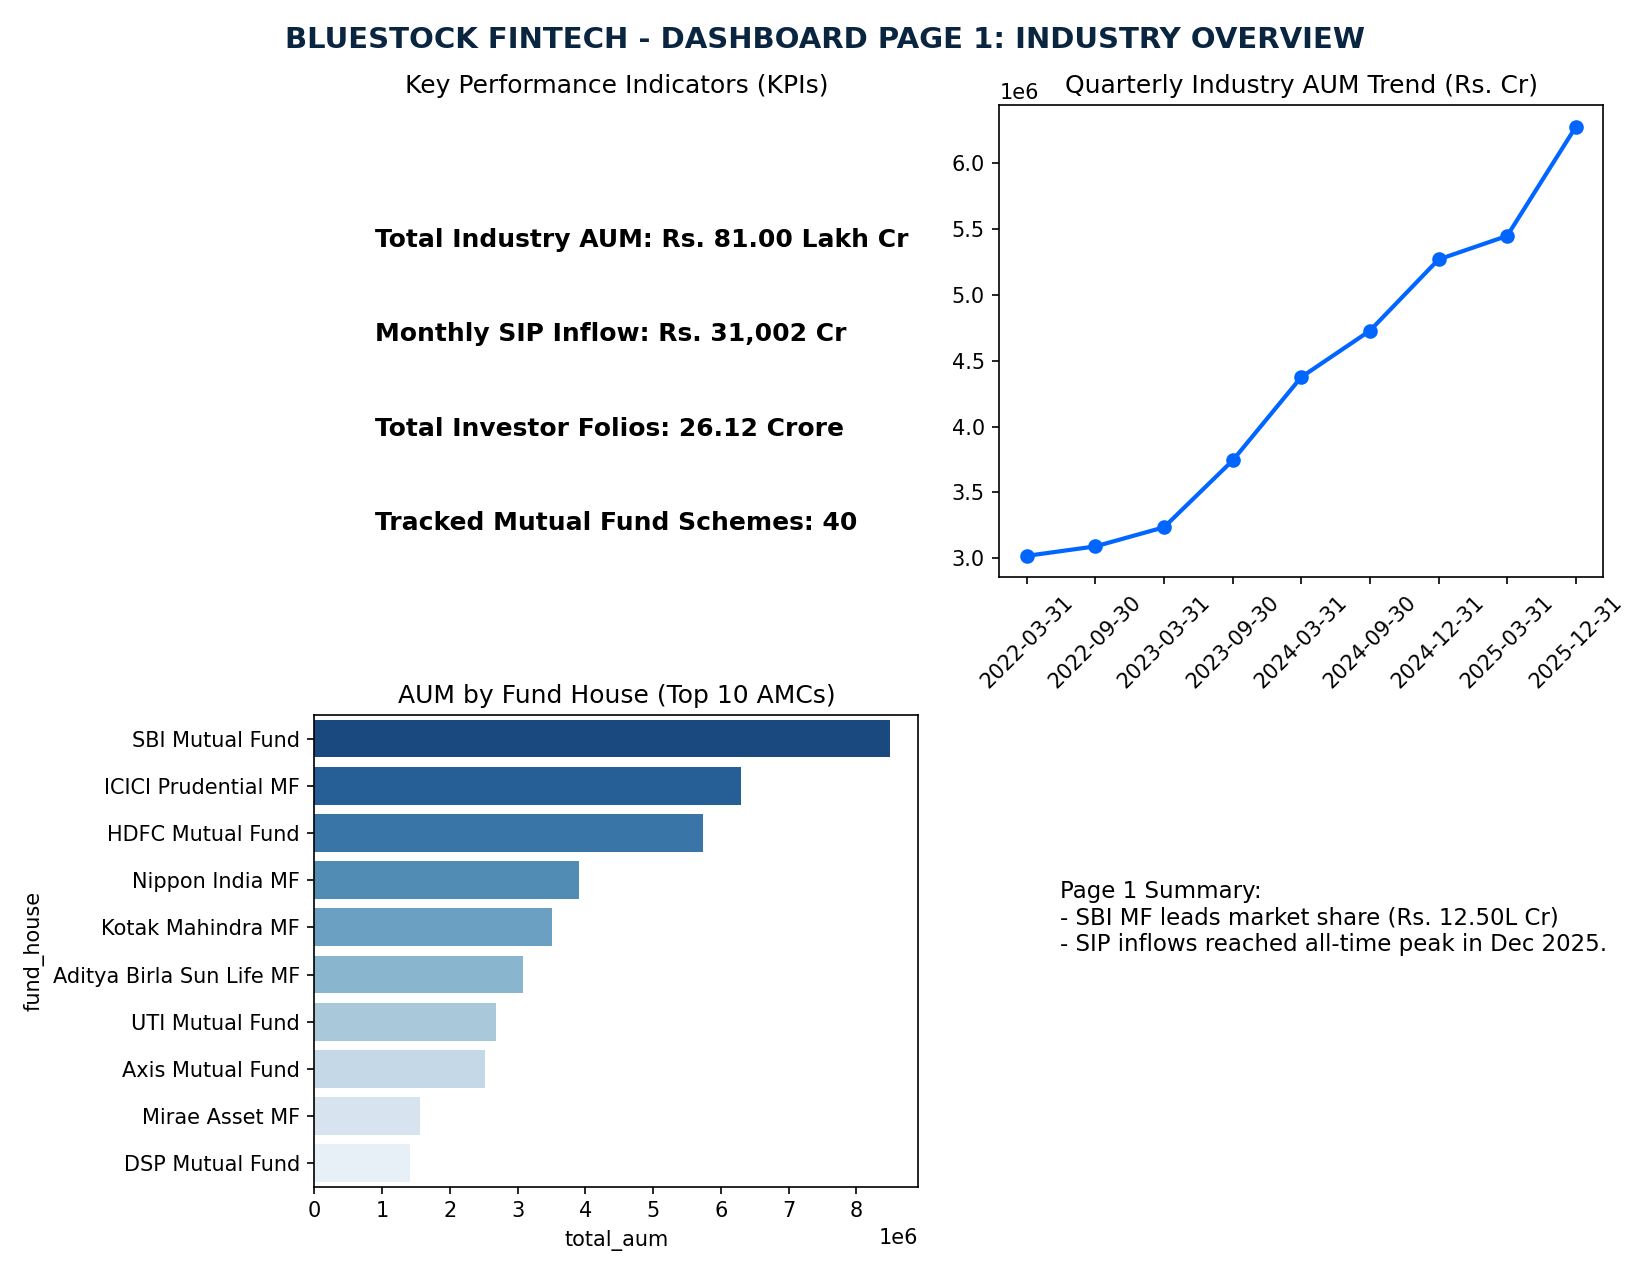

What the dashboard file says about the page in this screenshot:
{"tool":"tableau","page":{"name":"Bluestock Mutual Fund Analytics Dashboard","canvas":[1200,800],"ordinal":0},"visuals":[{"type":"worksheet","title":"Page 1 - Industry Overview","mark":"Automatic","box":[12,8,1176,784]}]}

Visuals, with their boxes on the page's 1200x800 design canvas (x1, y1, x2, y2). These are canvas units, not pixel positions in the 1650x1275 screenshot, which may show the page scaled, cropped or inside an application window:
"Page 1 - Industry Overview" worksheet: 12,8,1188,792
